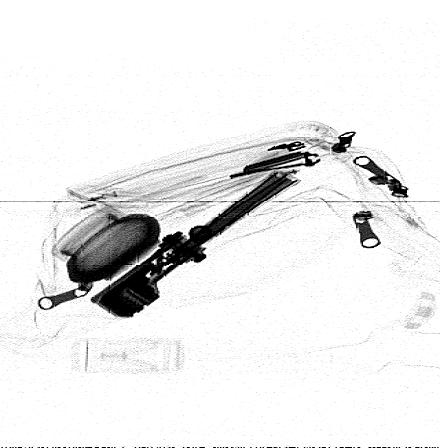Pliers: (87, 172, 296, 320)
